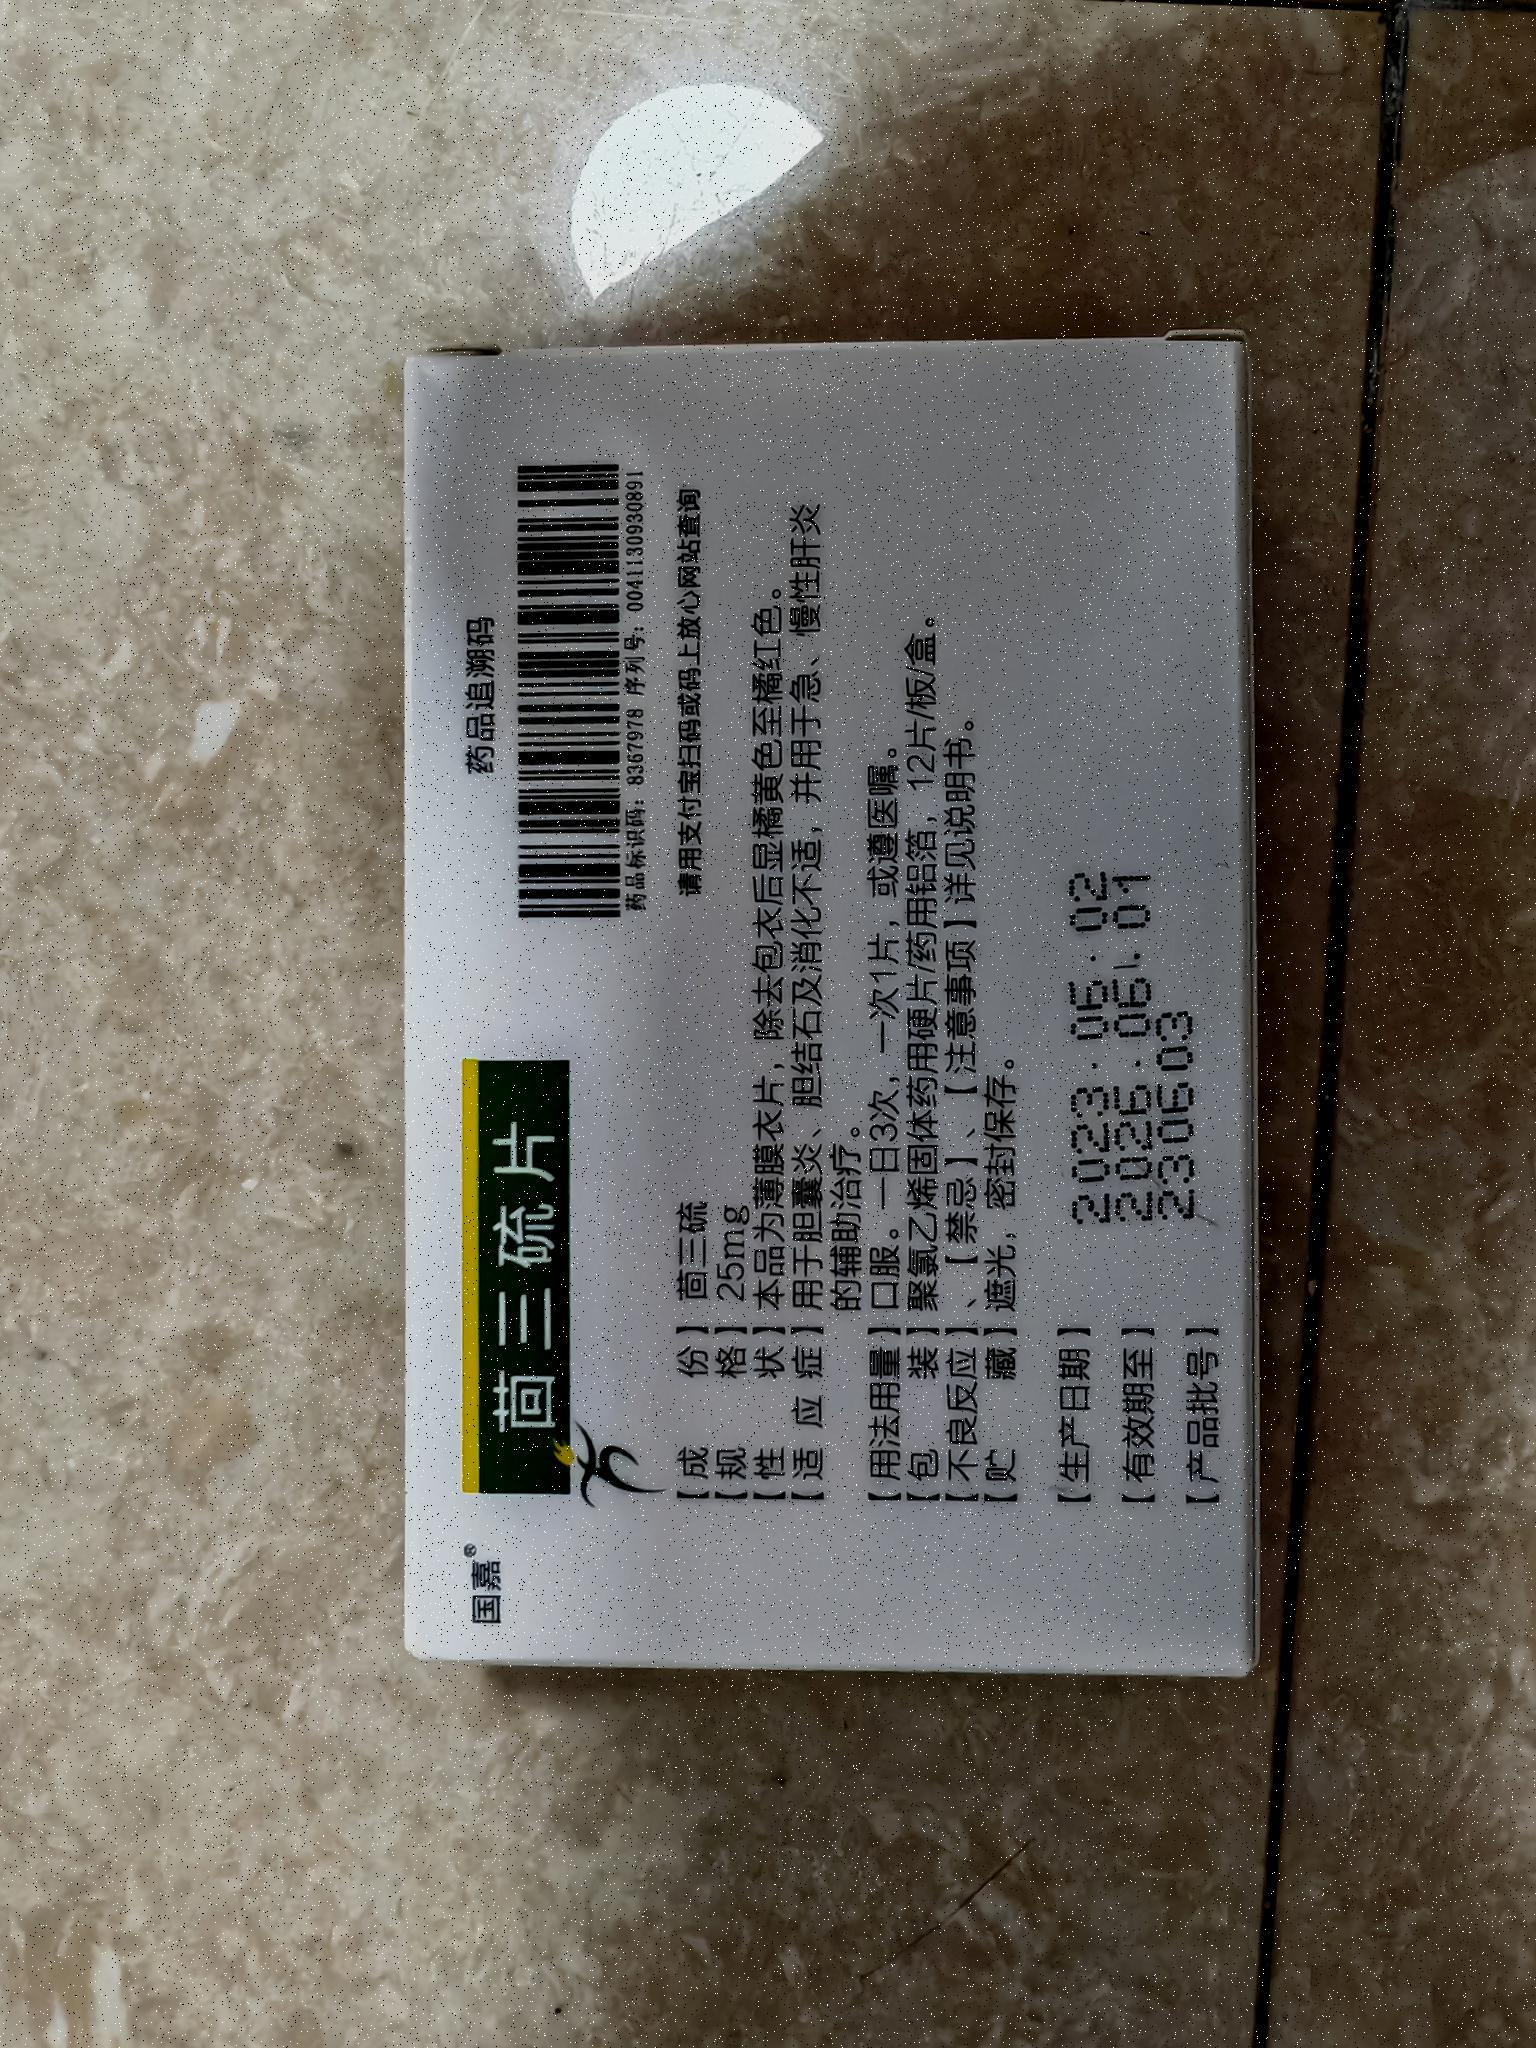Medicine4: (374, 297, 1305, 1708)
